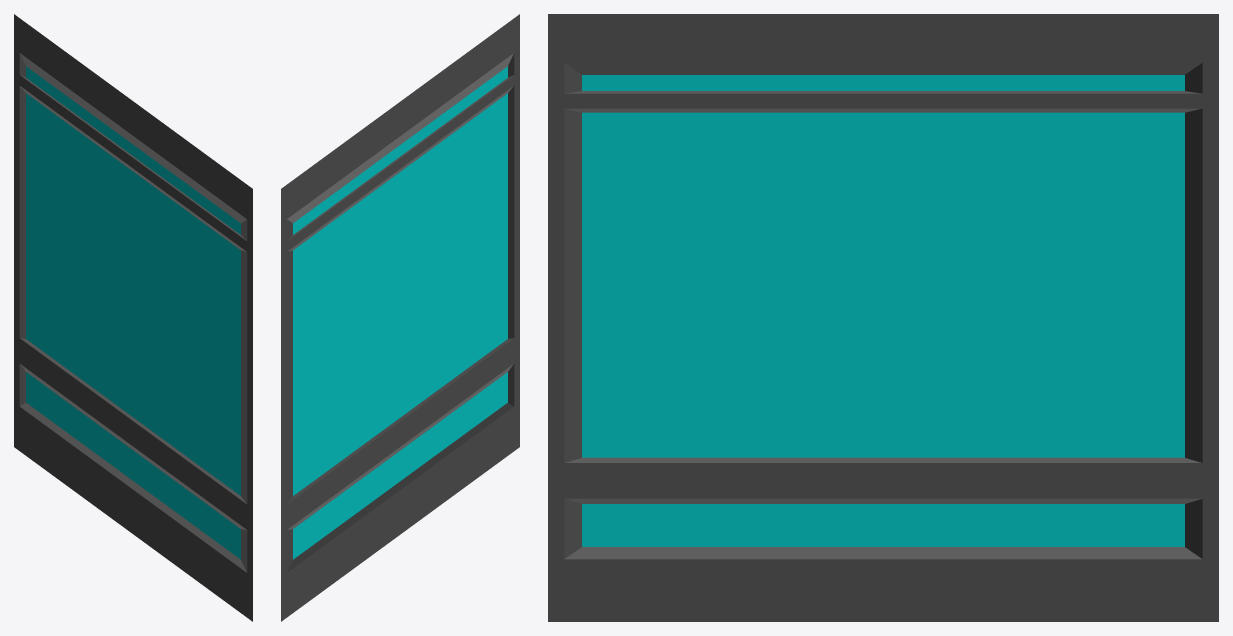
File: milit_wall_window_03_LOD1.fbx
The picture shows the model from 3 angles, left to right: view 1: azimuth 30°, elevation 25°; view 2: azimuth 150°, elevation 25°; view 3: azimuth 270°, elevation 25°; orthographic projection. The views are drawn at different scales.
Visible parts, largest first — view 1: milit_wall_window_03_LOD1; view 2: milit_wall_window_03_LOD1; view 3: milit_wall_window_03_LOD1.
Part boxes in pixels (x1,y1,x2,y2): milit_wall_window_03_LOD1: (14,14,252,621); milit_wall_window_03_LOD1: (281,14,519,621); milit_wall_window_03_LOD1: (548,14,1218,621).
Size of the model in its own units: 2.72e-07 by 3 by 3.
